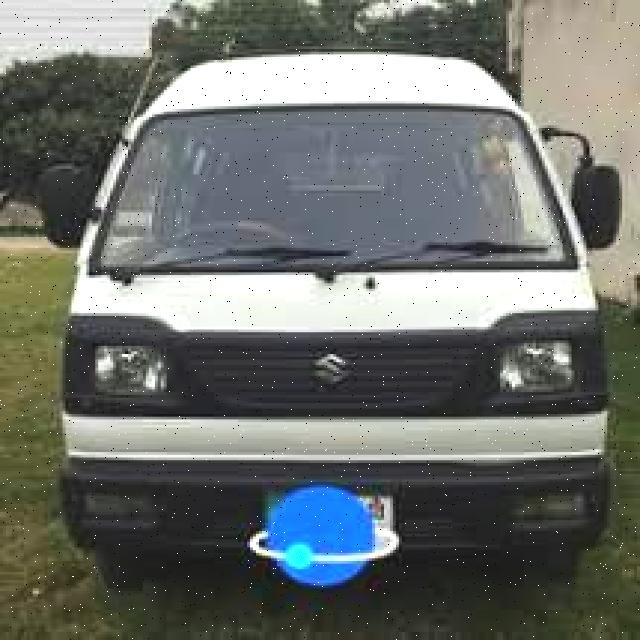Van: (57, 52, 619, 599)
